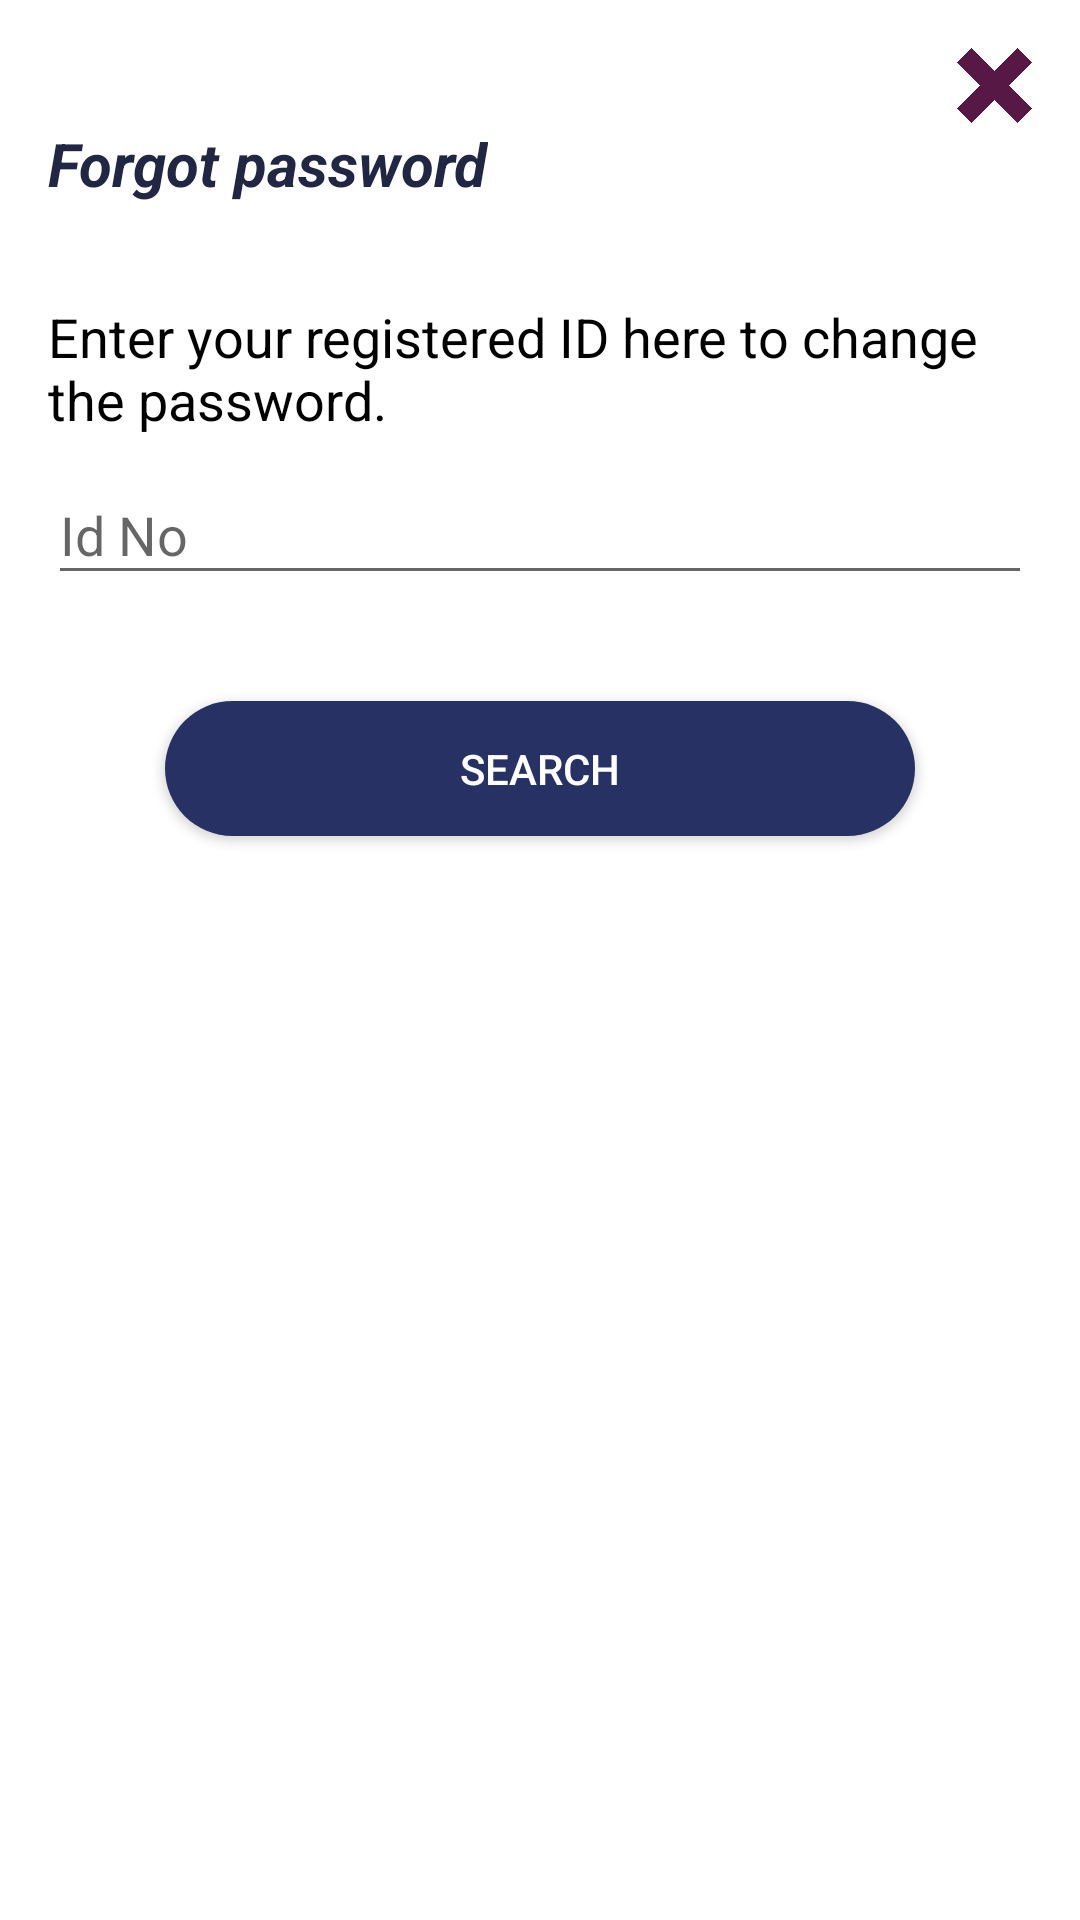

Icons on this 1080px×1920px Android screen, each with its box as (x1, y1, x2, y2):
cancel: (957, 48, 1032, 123)
